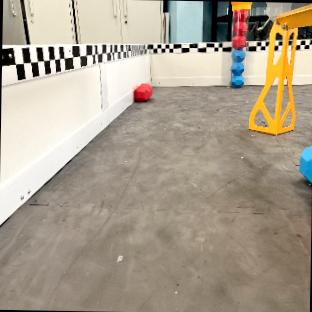Goal: (248, 4, 312, 134)
V5_BLUE: (299, 145, 312, 182), (231, 48, 244, 85)
V5_RED: (232, 7, 248, 47), (132, 83, 151, 101)
